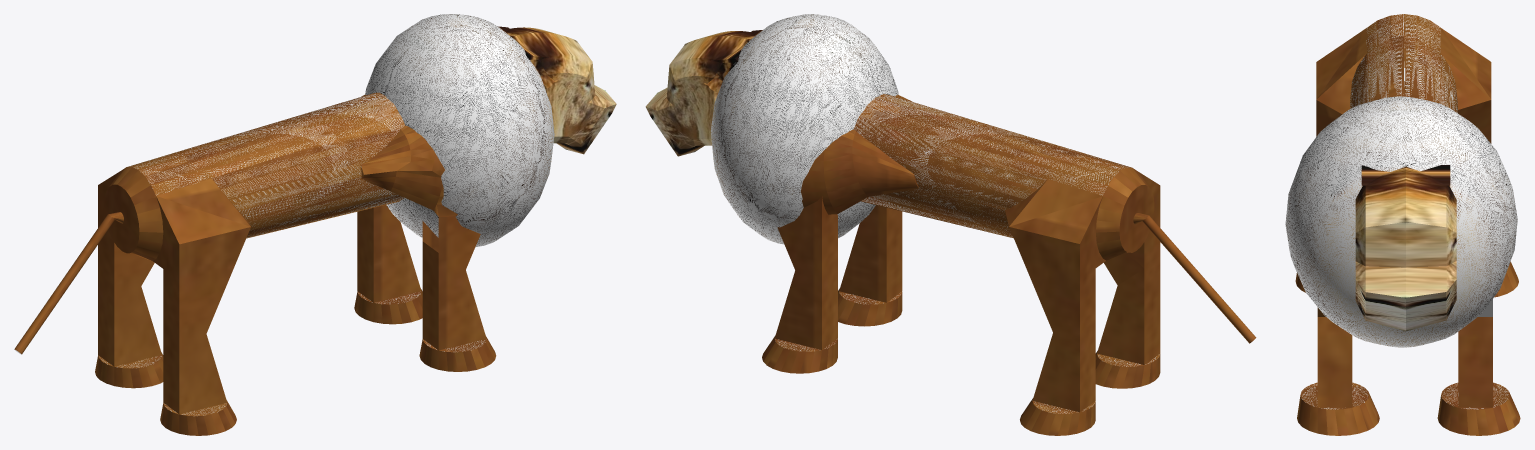
Rendered from LeZhangLion.dae.
3 views of the same model, side by side, from view 1: azimuth 30°, elevation 25°; view 2: azimuth 150°, elevation 25°; view 3: azimuth 270°, elevation 25° (orthographic). The views are drawn at different scales.
Parts seen in each view (by area): view 1: group_0 (×8); view 2: group_0 (×8); view 3: group_0 (×5).
Part boxes in pixels (x1=…): group_0 (×8): x1=14, y1=14, x2=616, y2=435; group_0 (×8): x1=645, y1=14, x2=1256, y2=435; group_0 (×5): x1=1285, y1=14, x2=1520, y2=435.
Bounding box in the file's own units: 50.51 × 15.95 × 24.7.
3 materials, 2 textured.
